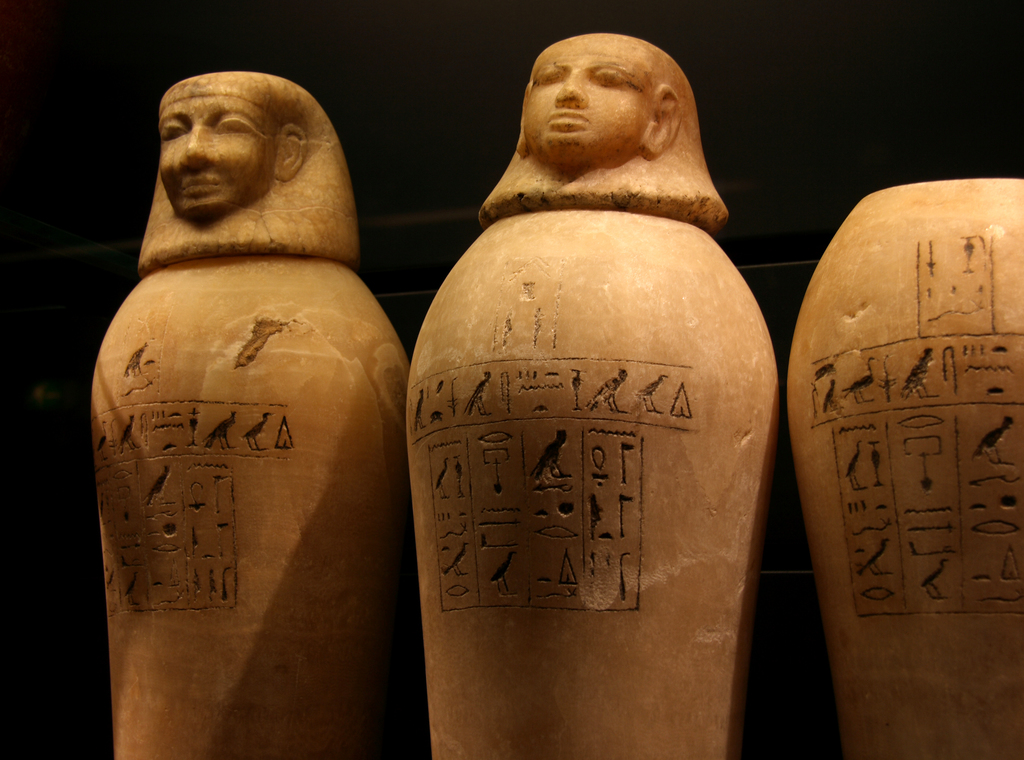Human-face: (519, 29, 652, 176), (152, 83, 279, 219)
